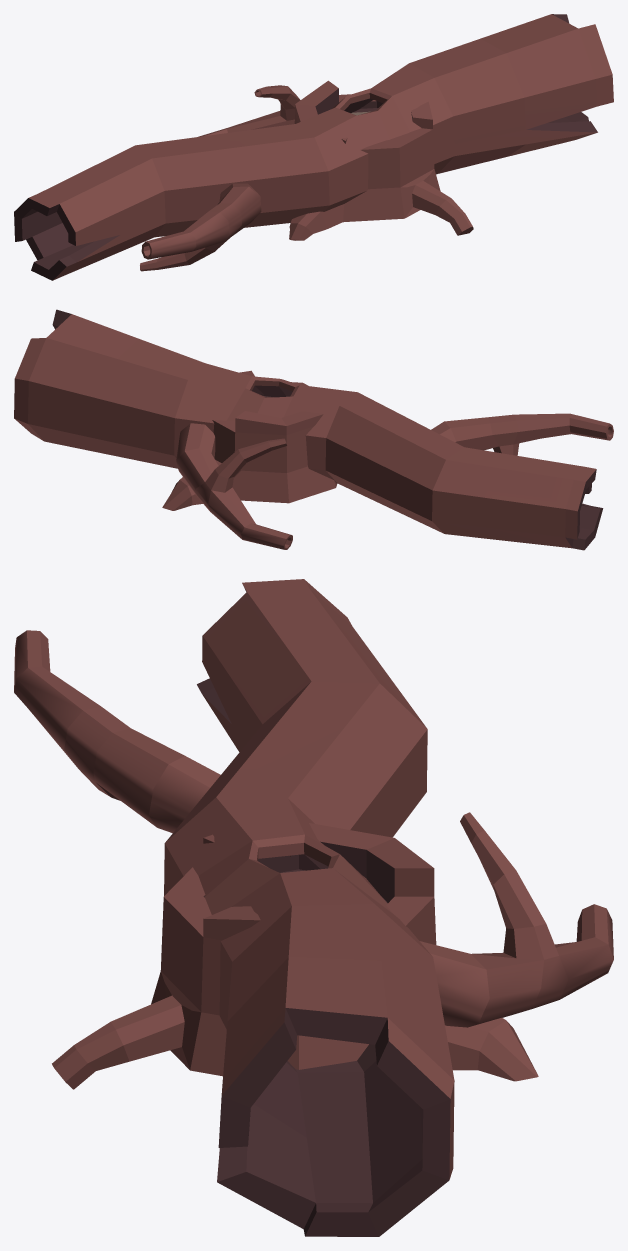
File: TreeTrunk.fbx
The picture shows the model from 3 angles, top to bottom: view 1: azimuth 30°, elevation 25°; view 2: azimuth 150°, elevation 25°; view 3: azimuth 270°, elevation 25°; orthographic projection. The views are drawn at different scales.
Parts seen in each view (by area): view 1: Circle, Circle.001; view 2: Circle, Circle.001; view 3: Circle, Circle.001.
Part boxes in pixels (x1=…): Circle: x1=14, y1=14, x2=613, y2=280; Circle.001: x1=289, y1=80, x2=473, y2=240; Circle: x1=14, y1=309, x2=613, y2=550; Circle.001: x1=162, y1=370, x2=336, y2=510; Circle: x1=14, y1=579, x2=613, y2=1236; Circle.001: x1=52, y1=823, x2=538, y2=1089.
Bounding box in the file's own units: 654 × 137 × 316.
